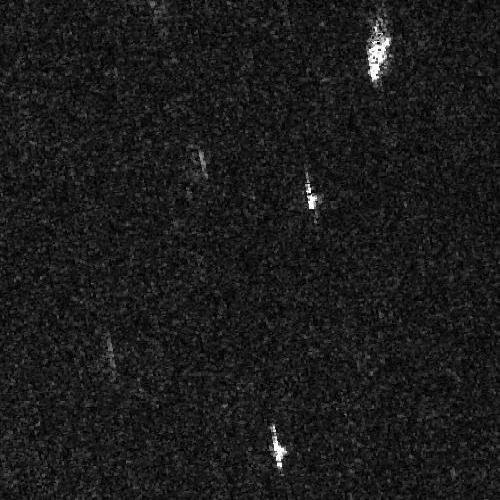ship: (366, 26, 391, 84), (270, 422, 287, 473), (304, 168, 318, 212)
